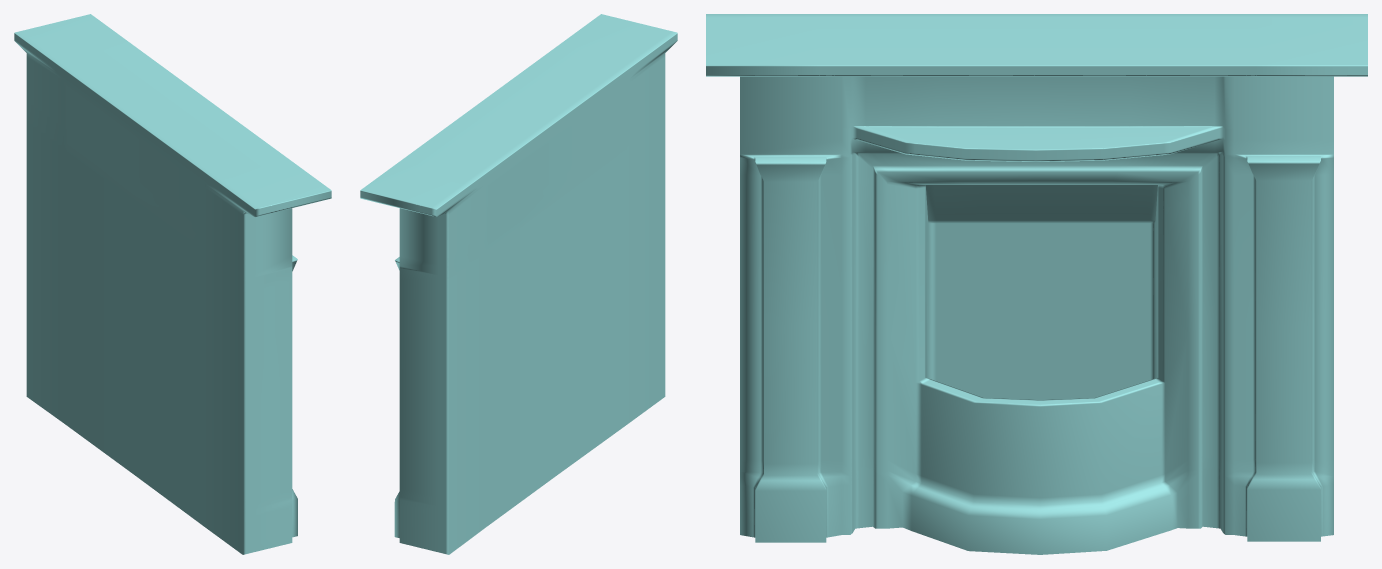
File: FYP_asset_diningRoom_fireplace.fbx
3 renders of one model, left to right at view 1: azimuth 30°, elevation 25°; view 2: azimuth 150°, elevation 25°; view 3: azimuth 270°, elevation 25°, orthographic. The views are drawn at different scales.
Visible parts, largest first — view 1: fireplace_OBJ; view 2: fireplace_OBJ; view 3: fireplace_OBJ.
Boxes of the visible parts, box(x1,y1,x2,y2) form: fireplace_OBJ: box(14, 14, 331, 554); fireplace_OBJ: box(360, 14, 677, 554); fireplace_OBJ: box(706, 14, 1367, 554).
Size of the model in its own units: 12.98 by 54.18 by 66.41.
